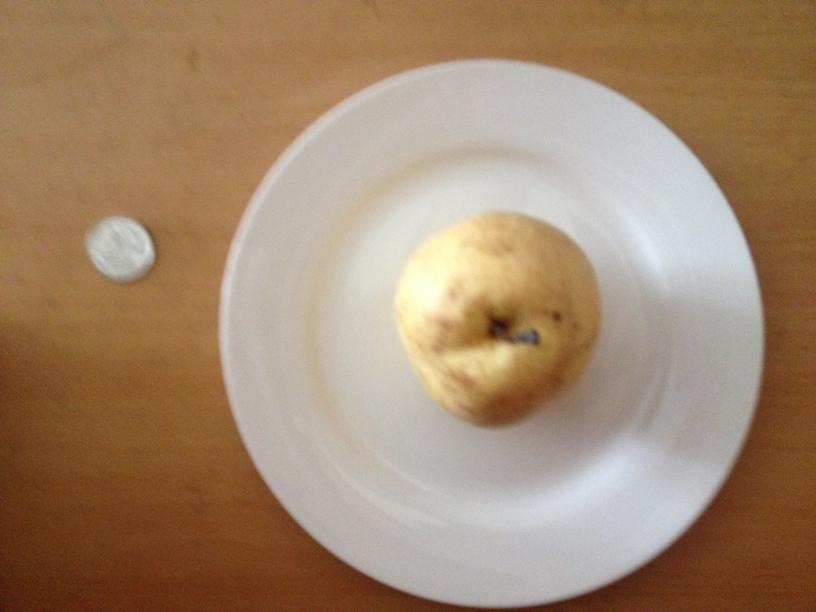coin: (81, 216, 156, 283)
pear: (393, 211, 601, 429)
